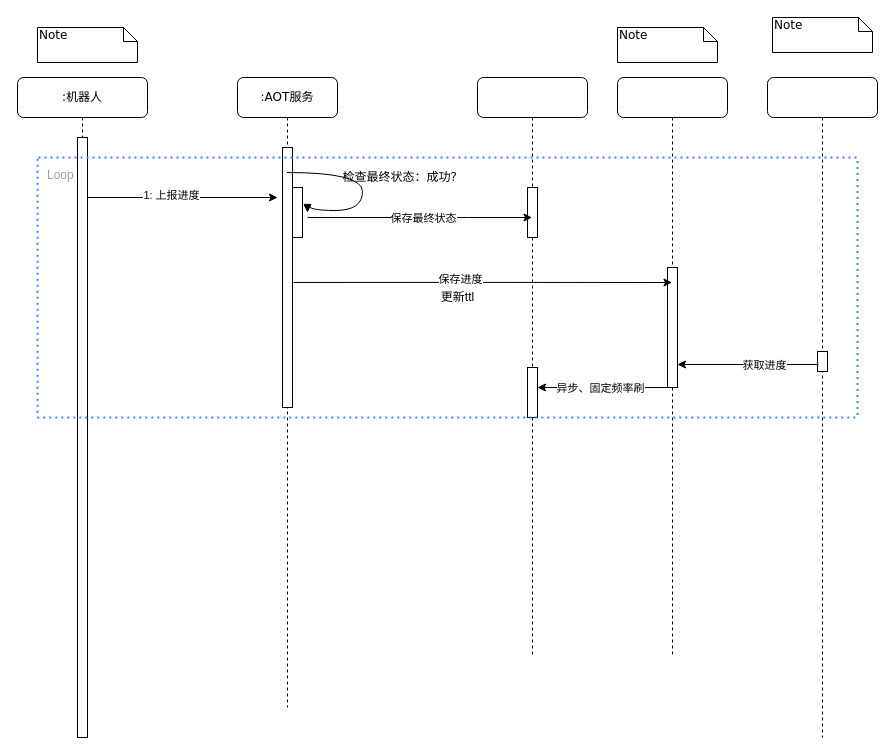
Image size: 895x755. Some labels were removed from this diagram. Each missing label, with the centre of its shape:
:App: point 822,407
:Mysql: point 532,367
:Redis: point 672,367
